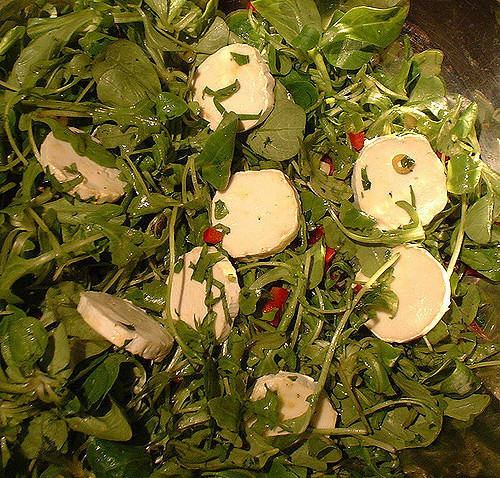chopped lettuce: (7, 17, 472, 468)
